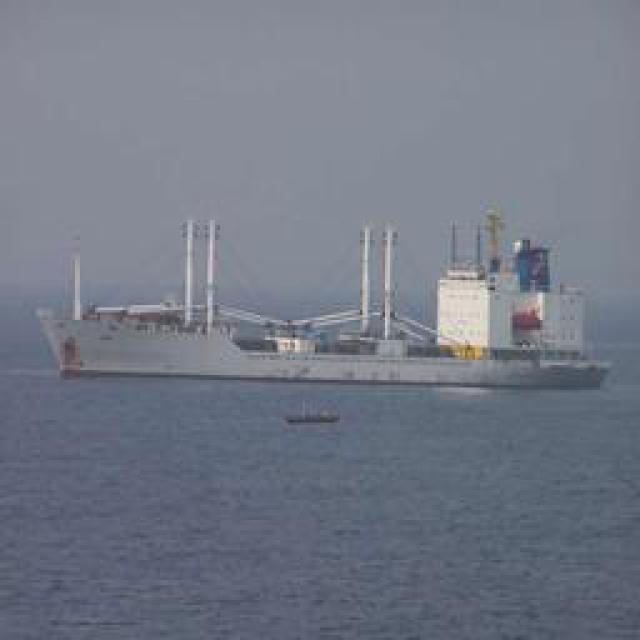Ship: (51, 232, 609, 390)
